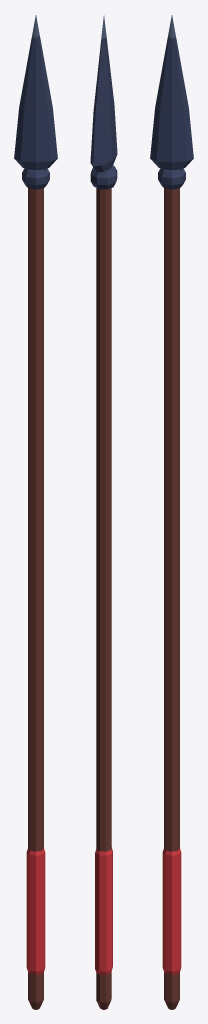
The model's file is Polearm_01.fbx.
The picture shows the model from 3 angles, left to right: view 1: azimuth 90°, elevation 25°; view 2: azimuth 150°, elevation 25°; view 3: azimuth 270°, elevation 25°; orthographic projection.
Parts seen in each view (by area): view 1: Polearm_01; view 2: Polearm_01; view 3: Polearm_01.
Part boxes in pixels (x1,y1,x2,y2): Polearm_01: (14,15,57,1009); Polearm_01: (90,15,117,1009); Polearm_01: (150,15,193,1009).
Size of the model in its own units: 6.47 by 254 by 10.15.
